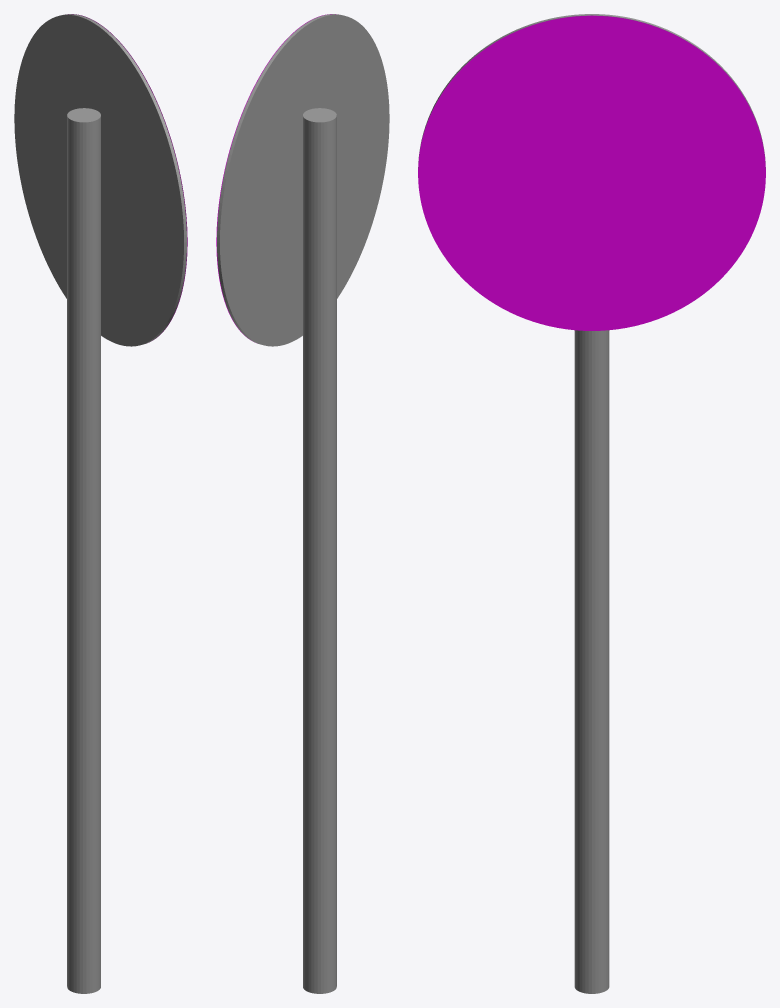
Rendered from sign_street_1.BDwaoplF.glb.
3 renders of one model, left to right at view 1: azimuth 30°, elevation 25°; view 2: azimuth 150°, elevation 25°; view 3: azimuth 270°, elevation 25°, orthographic. The views are drawn at different scales.
Visible parts, largest first — view 1: frame, stick; view 2: frame, stick; view 3: plane, stick, frame.
Part boxes in pixels (left/top/right/bottom): frame: left=14, top=14, right=186, bottom=346; stick: left=67, top=108, right=100, bottom=993; frame: left=217, top=14, right=389, bottom=346; stick: left=303, top=108, right=336, bottom=993; plane: left=418, top=15, right=765, bottom=330; stick: left=574, top=330, right=609, bottom=993; frame: left=418, top=14, right=765, bottom=168.
Size of the model in its own units: 0.068 by 1.87 by 0.6.
